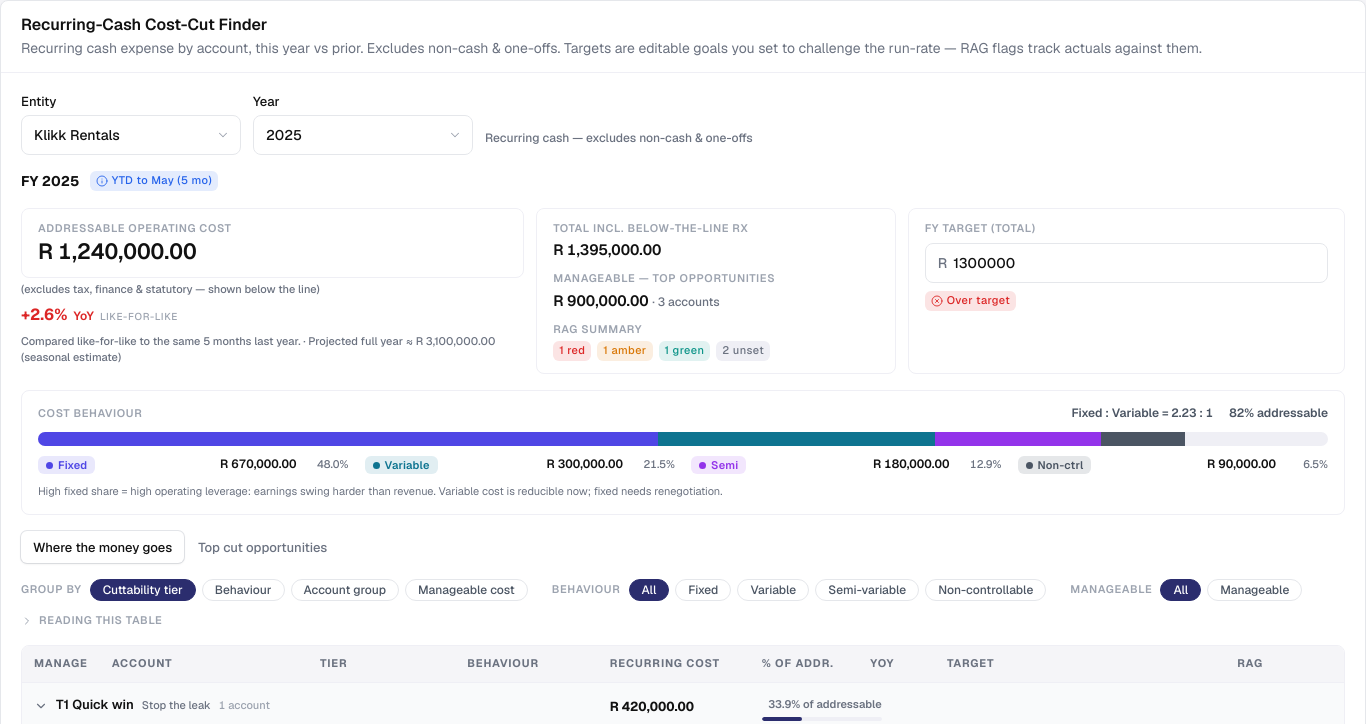
Scenario: CostCutReport — mount baseline › renders both KTabs and switches to the opportunities panel on click
Click the tab "Top cut opportunities" at (263, 547), box [186,531,339,563]
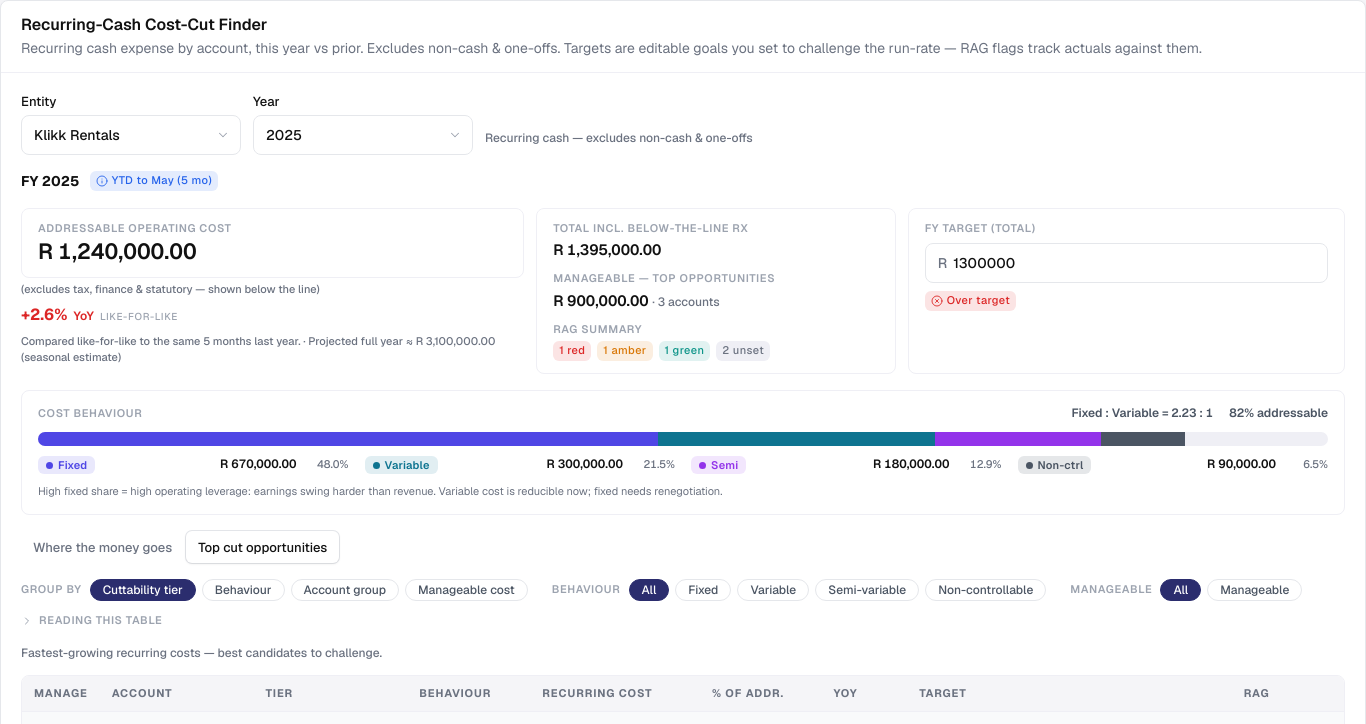
Expected: the text "Fastest-growing recurring costs" is shown, [21,645,382,661]
Expected: the number of "CostCutRow" components is 2
